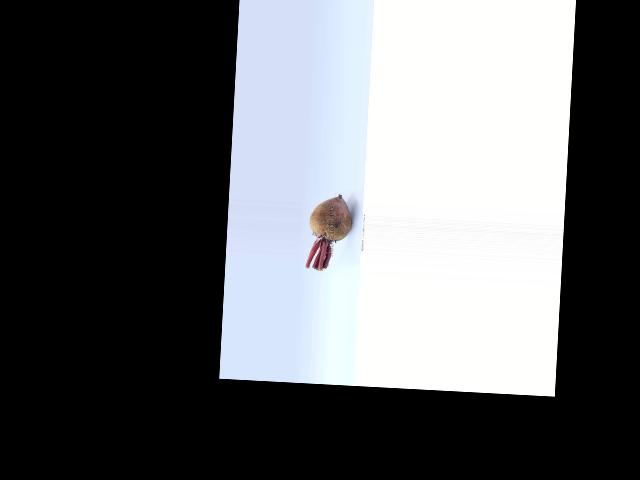beet: (306, 194, 352, 271)
